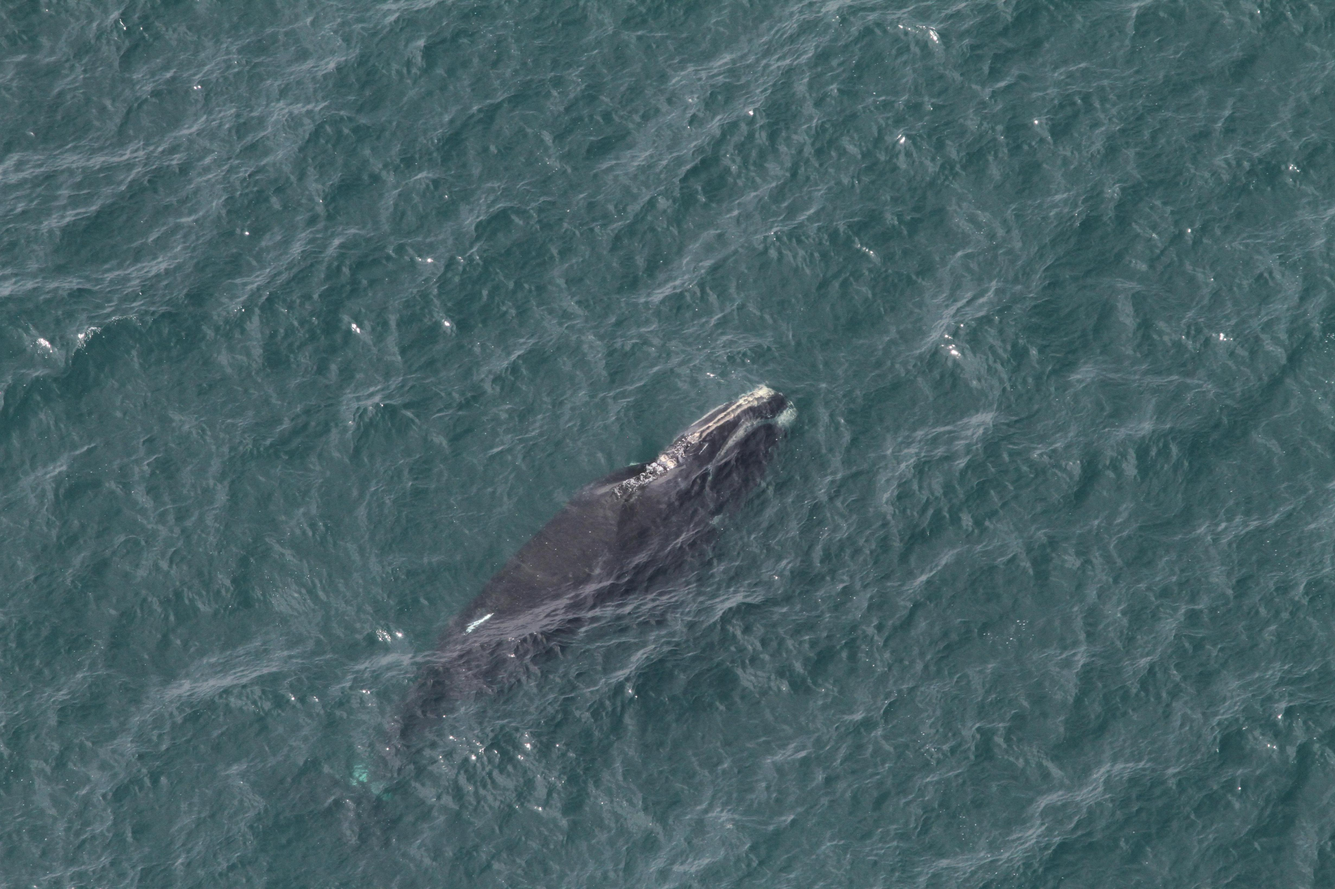whale: (322, 380, 810, 836)
